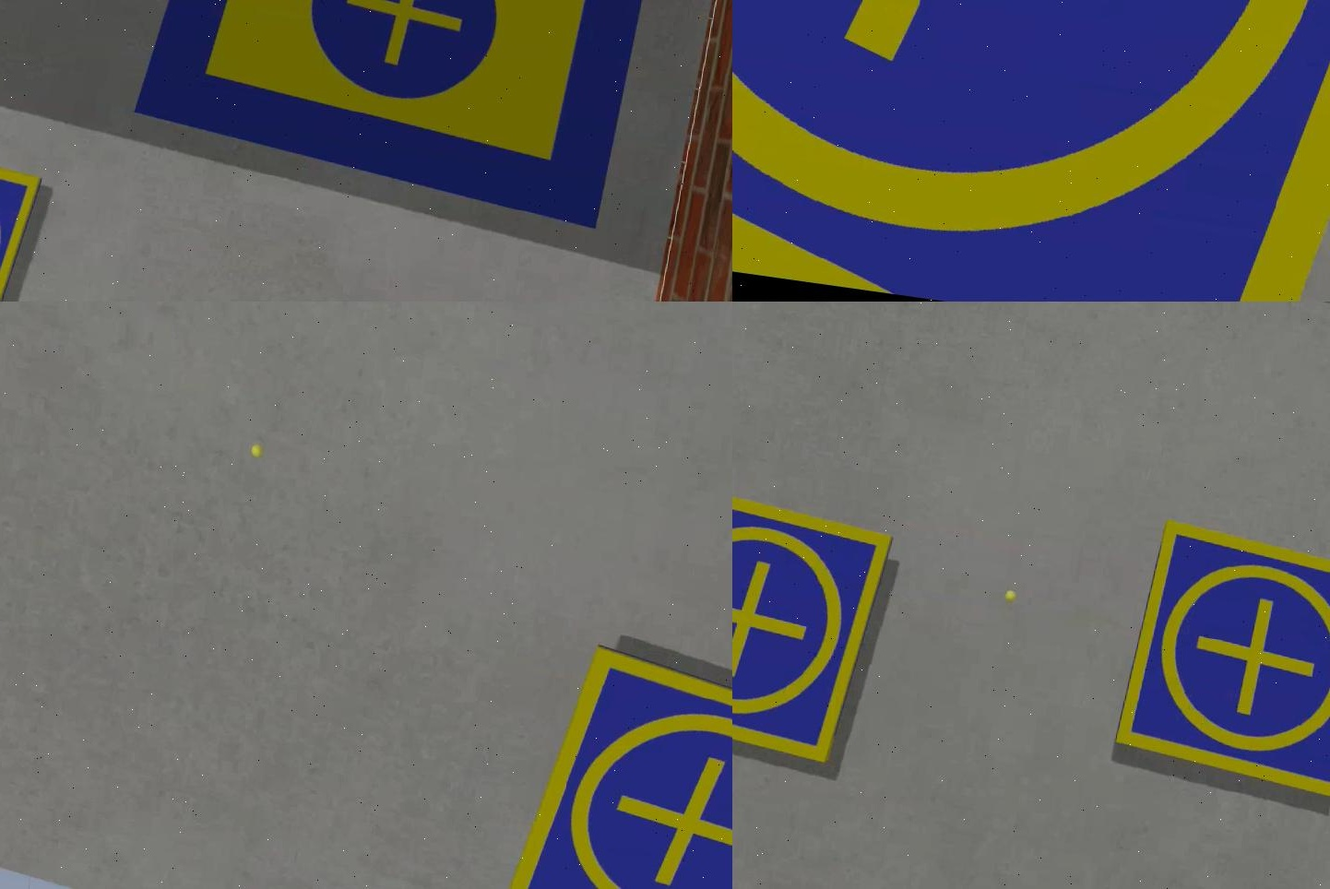large_base: (126, 1, 665, 234)
small_base: (731, 1, 1328, 302), (1108, 516, 1328, 808), (499, 637, 731, 889), (731, 479, 897, 772)
